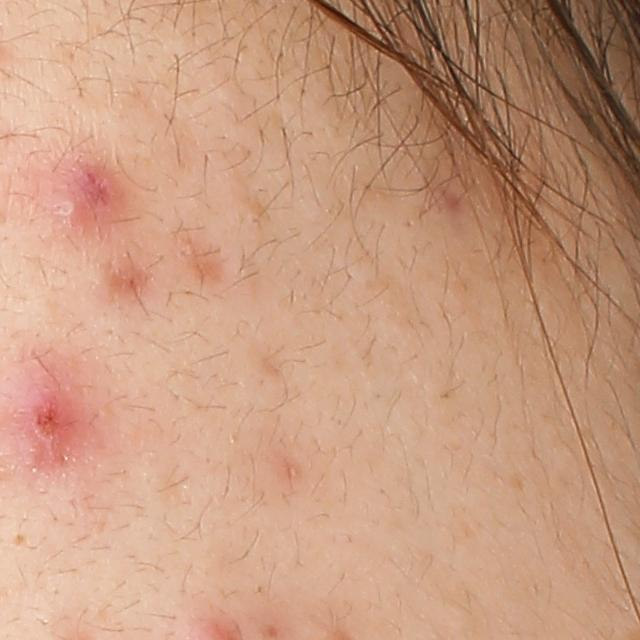papule: (35, 160, 119, 238)
